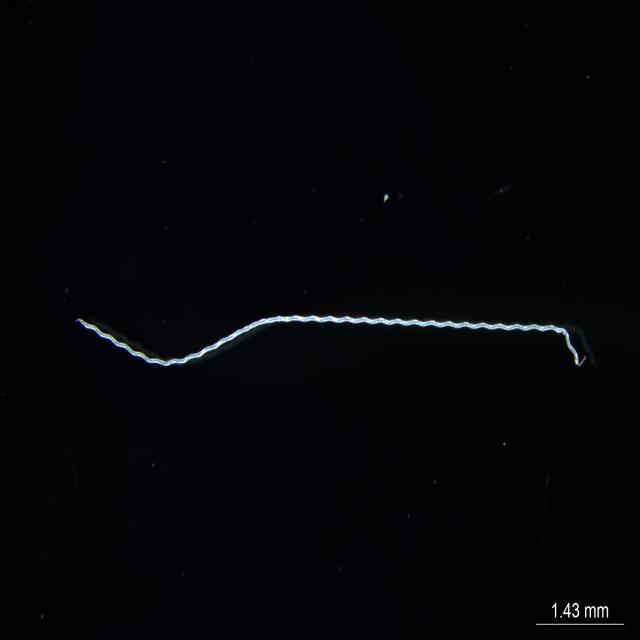fibers: (75, 314, 587, 367)
